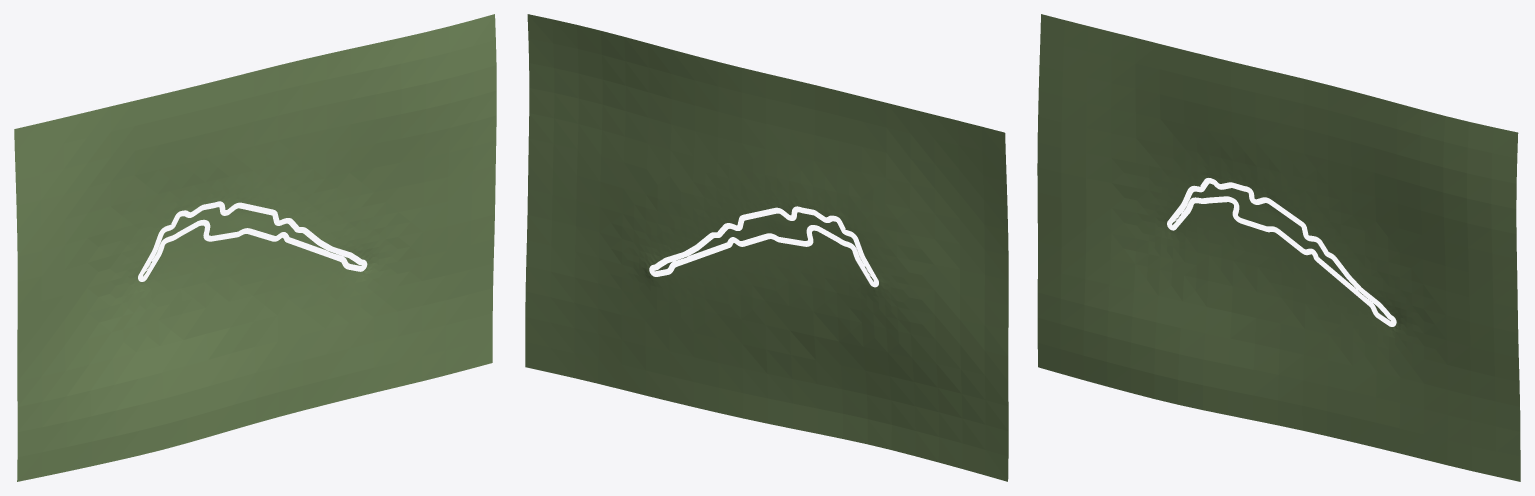
The model's file is FS_autonomous_TrackDrive.obj.
3 renders of one model, left to right at view 1: azimuth 30°, elevation 25°; view 2: azimuth 150°, elevation 25°; view 3: azimuth 330°, elevation 25°, orthographic.
Visible parts, largest first — view 1: Background; view 2: Background; view 3: Background.
Boxes of the visible parts, <box> form: Background: <box>14,14,496,481</box>; Background: <box>525,14,1008,481</box>; Background: <box>1037,14,1520,481</box>.
Size of the model in its own units: 800 by 560 by 22.37.
